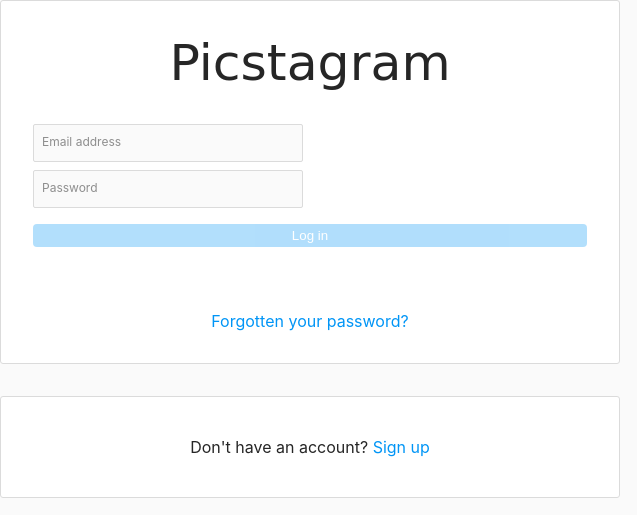
Scenario: Login › when the user's credentials is correct › allows the user to log in to the platform
The image size is (637, 515).
Expected: the button "Log in" is disabled, [33,224,587,247]
Type "test@example.com" into the field labelled "Email address".
click(168, 143); type("test@example.com")  # box [33,124,303,162]
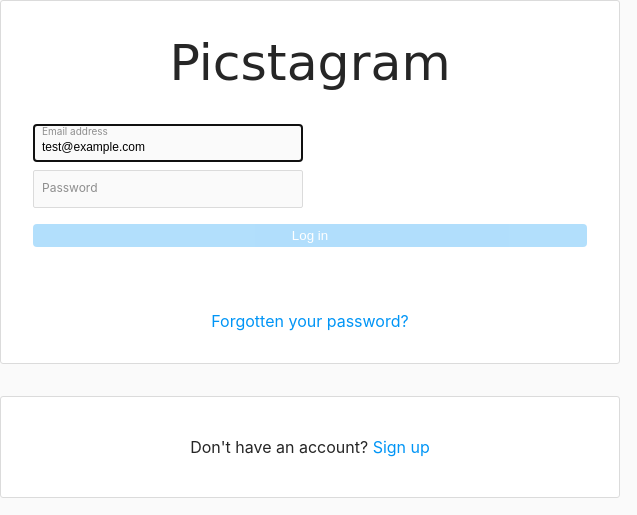
Type "s3c3r3tp@ss" into the password field labelled "Password".
click(168, 189); type("s3c3r3tp@ss")  # box [33,170,303,208]
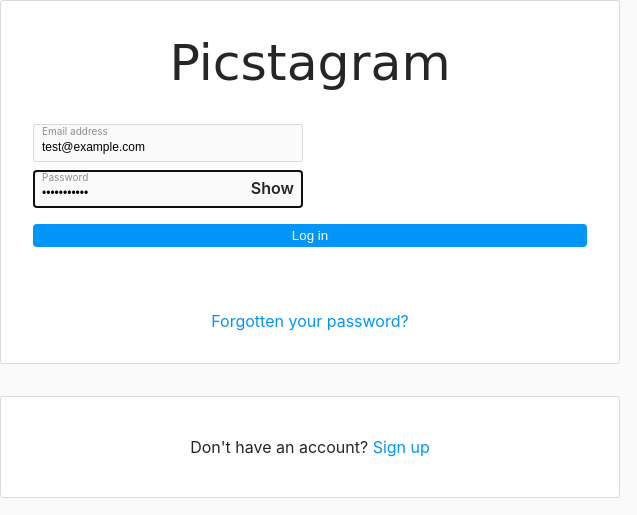
Result: the button "Log in" is enabled
Click the button "Log in".
click(310, 236)  # box [33,224,587,247]
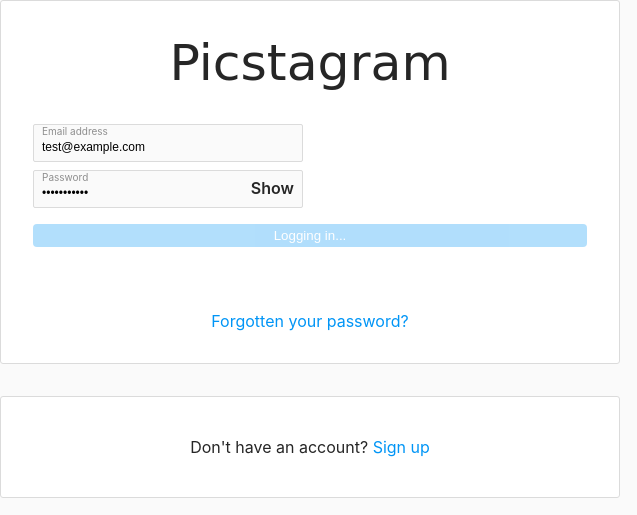
Result: the button "Log in" is gone
